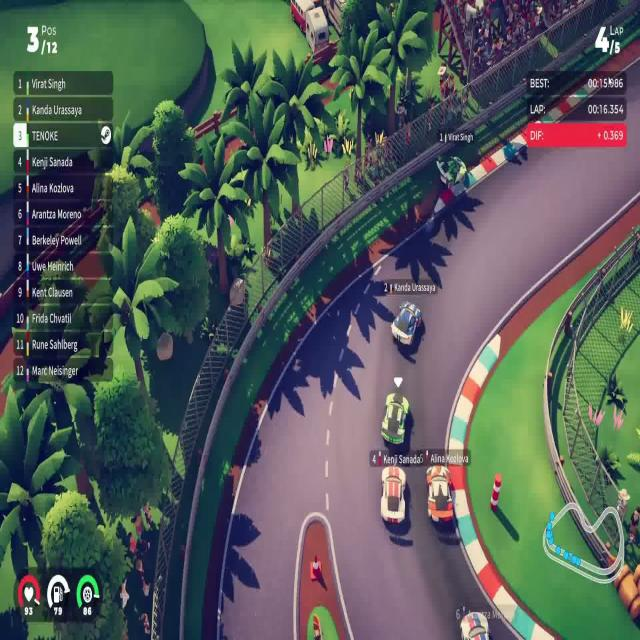car: (426, 466, 455, 526), (379, 464, 407, 526), (380, 391, 410, 447), (390, 300, 422, 347), (438, 155, 467, 189)
